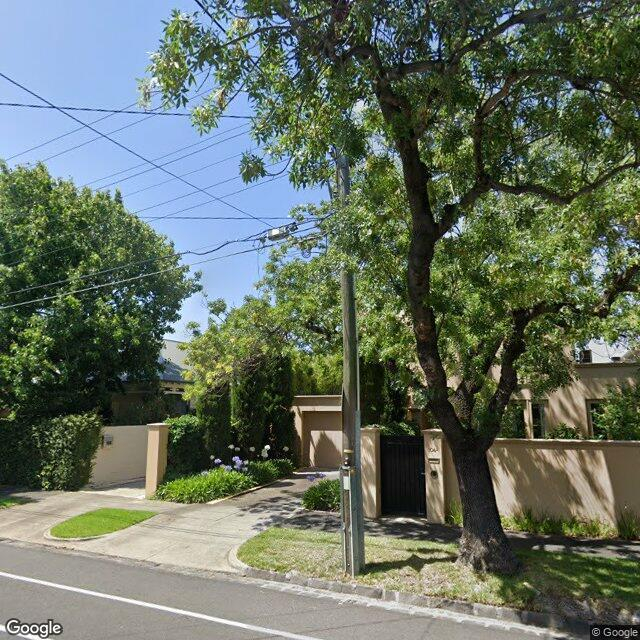timber-pole: (336, 144, 365, 576)
